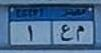1: (26, 22, 34, 42)
ain: (60, 24, 73, 42)
meem: (75, 24, 85, 42)
